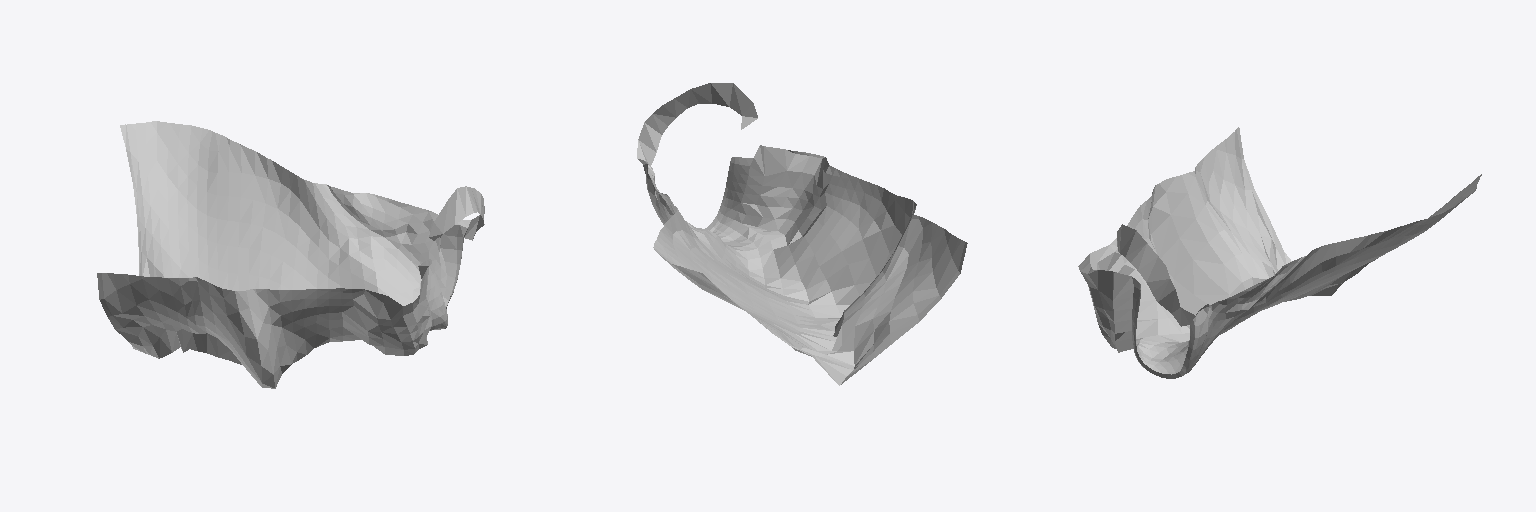
File: RalveolarFixedSkin_8_5_20.obj
The picture shows the model from 3 angles: view 1: azimuth 30°, elevation 25°; view 2: azimuth 150°, elevation 25°; view 3: azimuth 270°, elevation 25°; orthographic projection.
Visible parts, largest first — view 1: RalveolarFixedSkin; view 2: RalveolarFixedSkin; view 3: RalveolarFixedSkin.
Part boxes in pixels (x1,y1,x2,y2): RalveolarFixedSkin: (97,121,484,388); RalveolarFixedSkin: (637,83,967,385); RalveolarFixedSkin: (1078,127,1481,378).
Size of the model in its own units: 1.08 by 0.5105 by 1.05.